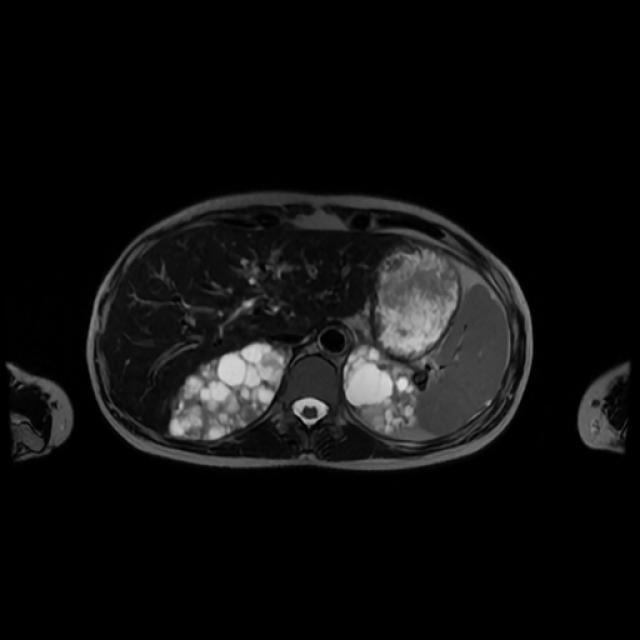sag: (171, 338, 282, 439)
sol: (345, 345, 419, 433)
